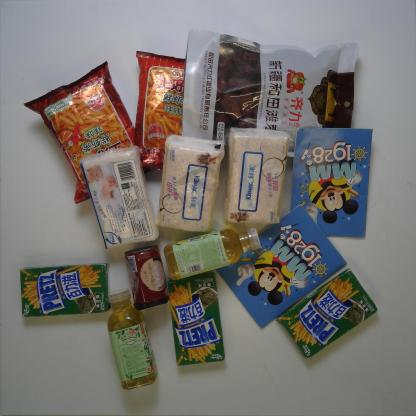Canned Food: (124, 244, 170, 310)
Dessert: (276, 268, 379, 361), (166, 271, 226, 367), (20, 262, 112, 318)
Dried Food: (180, 27, 361, 158)
Drink: (163, 226, 262, 283), (106, 288, 159, 390)
Puffed Food: (23, 59, 153, 205), (134, 51, 185, 170)
Stationery: (214, 204, 347, 329), (290, 127, 374, 239)
Tissue: (79, 146, 159, 250), (155, 133, 226, 234), (224, 126, 290, 224)
